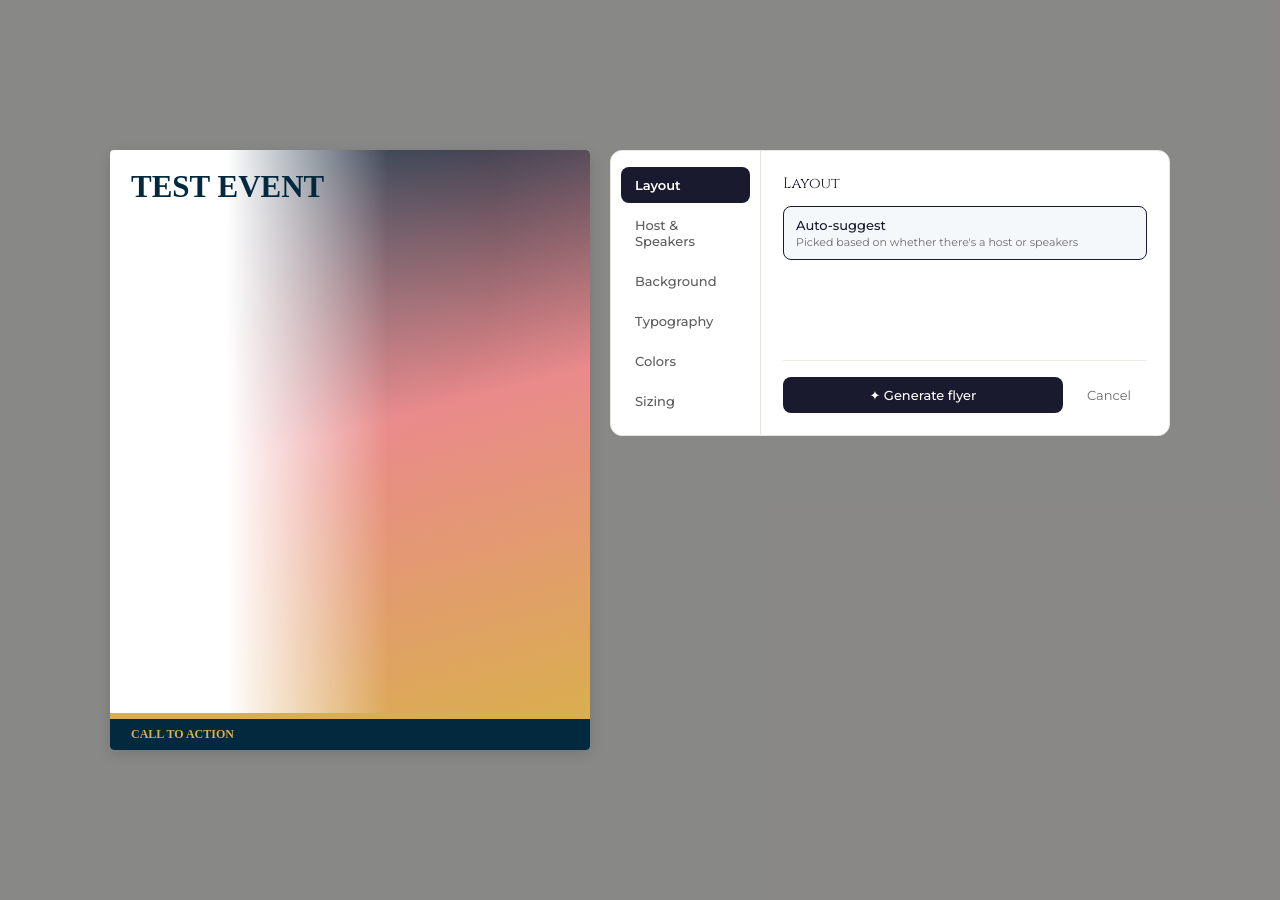
Test case: skips the subtitle slider when the event has no subtitle text
This screenshot has width=1280, height=900.
Click the button "Sizing".
click(686, 401)  # box [621,383,750,419]
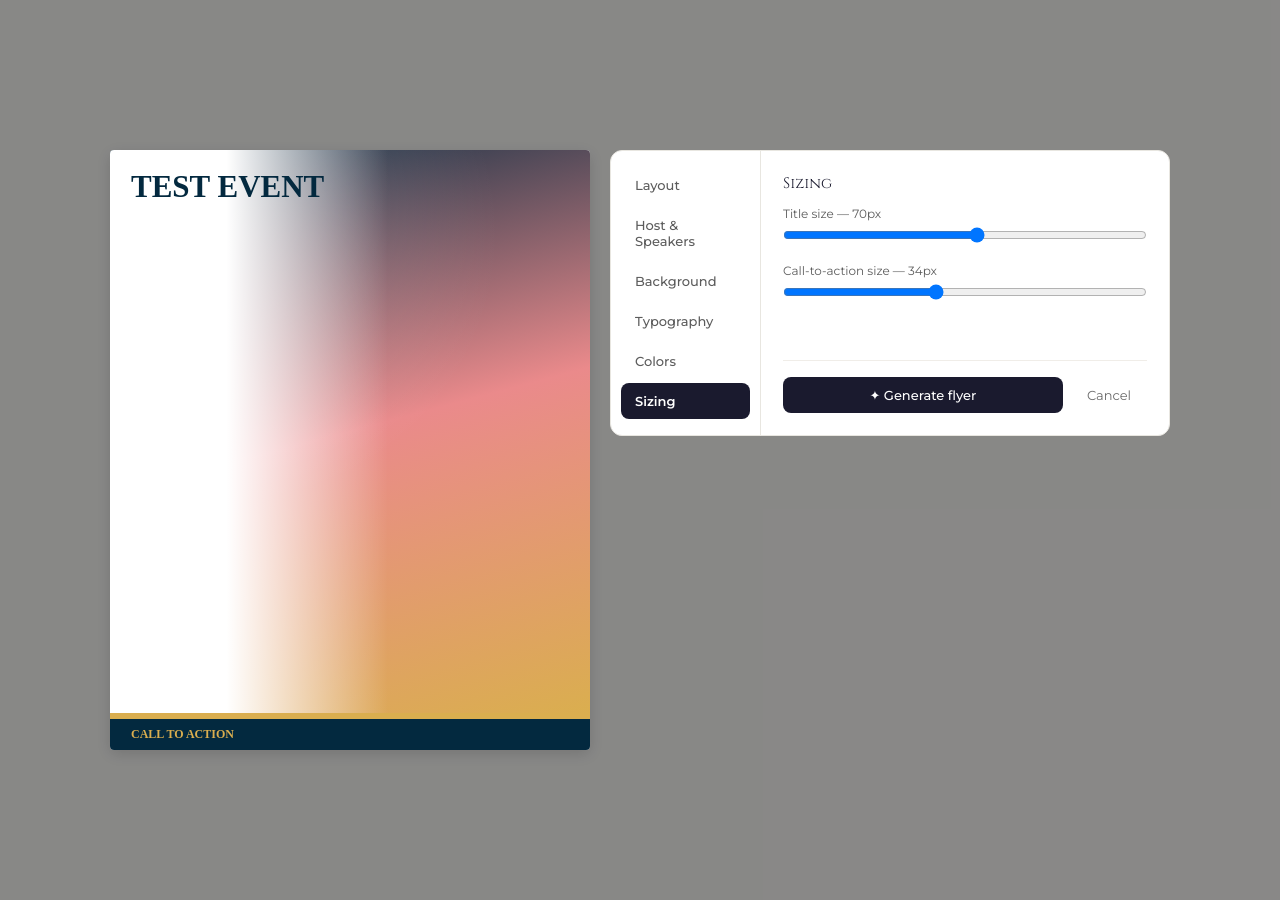
expect the number of sliders is 2: met, box [783,227,1147,243]; [783,284,1147,300]
